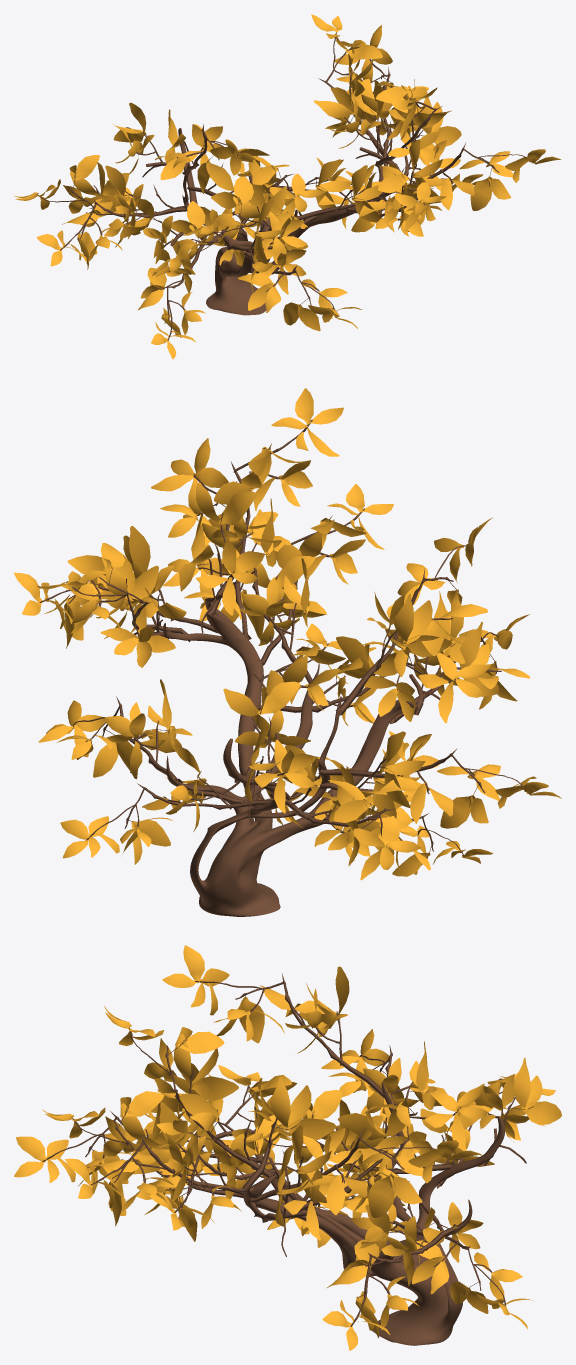
File: FireTree.fbx
3 views of the same model, one above another, from view 1: azimuth 30°, elevation 25°; view 2: azimuth 150°, elevation 25°; view 3: azimuth 270°, elevation 25° (orthographic). The views are drawn at different scales.
Visible parts, largest first — view 1: Life_tree_01; view 2: Life_tree_01; view 3: Life_tree_01.
Boxes of the visible parts, <box> form: Life_tree_01: <box>14,14,561,359</box>; Life_tree_01: <box>14,388,561,916</box>; Life_tree_01: <box>14,945,561,1350</box>.
Bounding box in the file's own units: 640 × 434 × 595.
